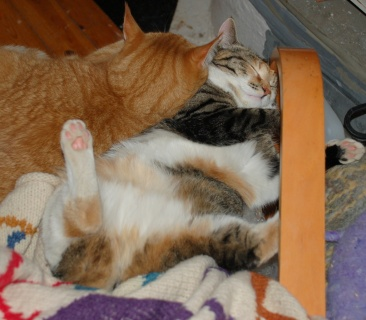Cat: (35, 15, 366, 292), (0, 0, 225, 205)
